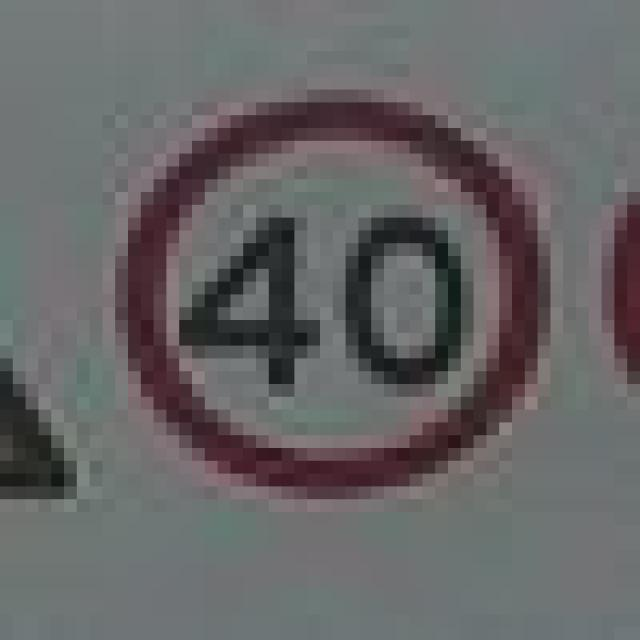SPEED_LIMIT_40: (90, 64, 524, 486)
